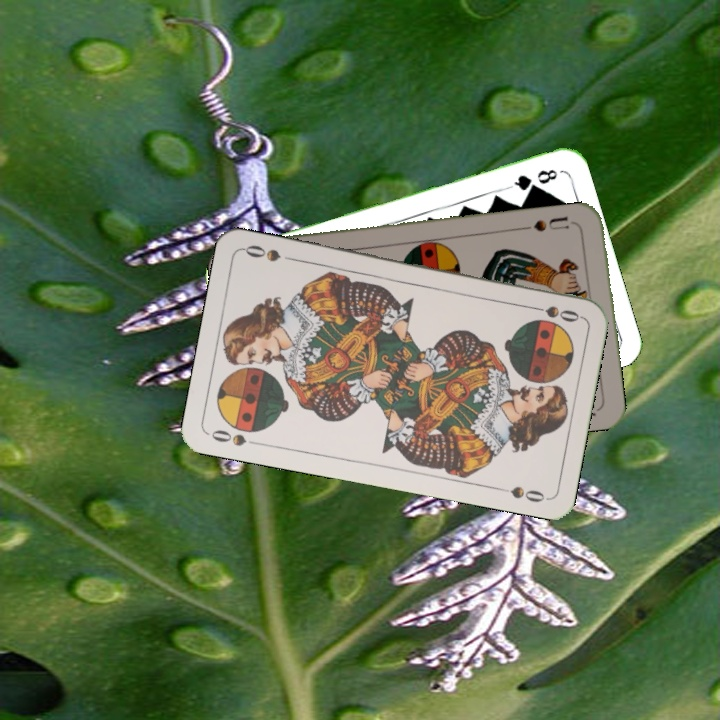G8: (505, 165, 560, 193)
SO: (524, 301, 583, 325), (207, 425, 264, 449)
SU: (520, 212, 580, 234)
